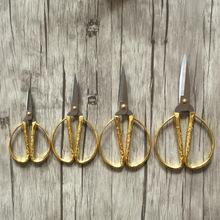scissor: (154, 54, 216, 174), (100, 65, 153, 170), (52, 73, 100, 166), (9, 89, 52, 165)
